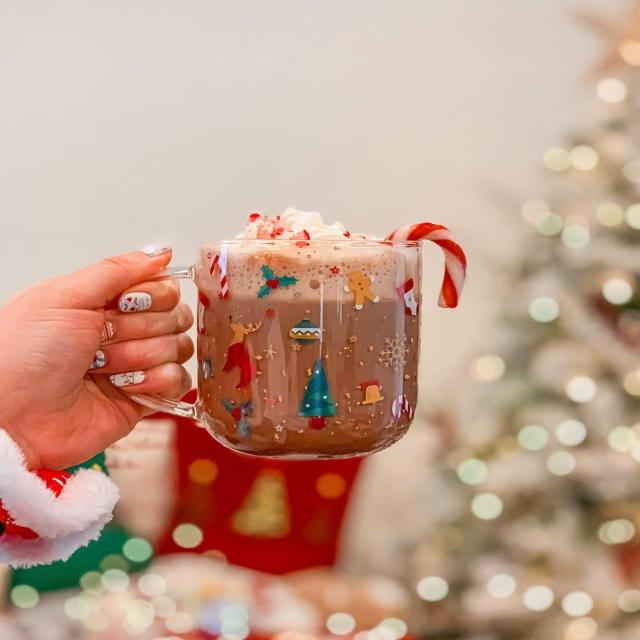glass-mug: (109, 226, 437, 462)
